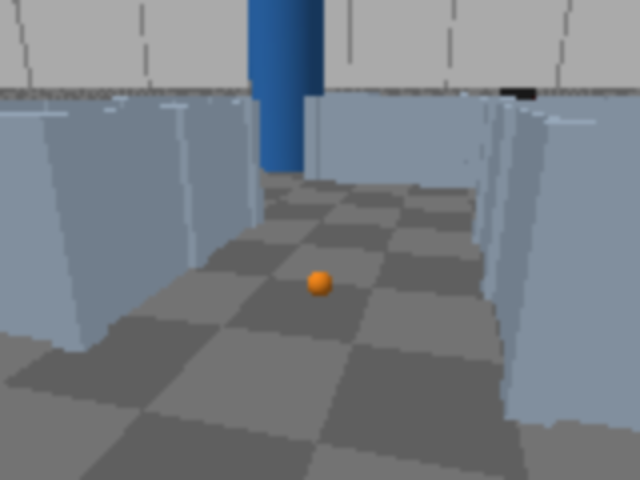puck: (302, 265, 339, 303)
